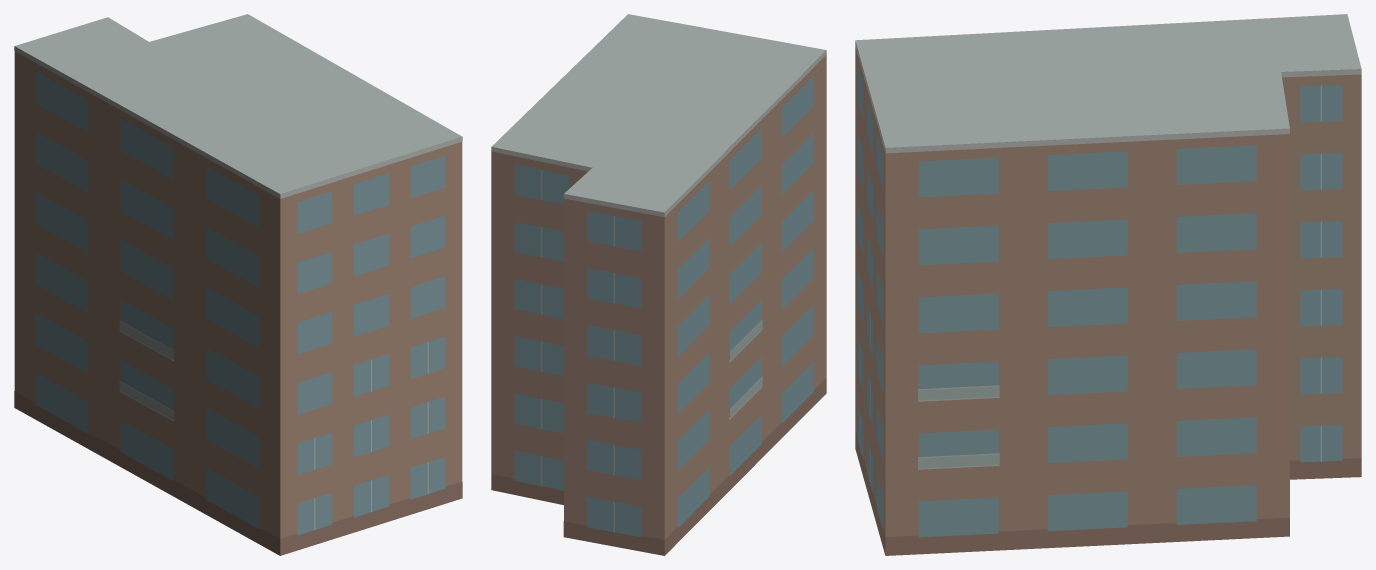
The model's file is survey-upis-32576132.glb.
3 renders of one model, left to right at view 1: azimuth 30°, elevation 25°; view 2: azimuth 150°, elevation 25°; view 3: azimuth 270°, elevation 25°, orthographic. The views are drawn at different scales.
Parts seen in each view (by area): view 1: survey-upis-32576132.tmp; view 2: survey-upis-32576132.tmp; view 3: survey-upis-32576132.tmp.
Boxes of the visible parts, x1,y1,x2,y2 form: survey-upis-32576132.tmp: (14, 14, 462, 555); survey-upis-32576132.tmp: (491, 14, 826, 555); survey-upis-32576132.tmp: (855, 14, 1361, 555).
Size of the model in its own units: 12.71 by 18.05 by 20.31.
